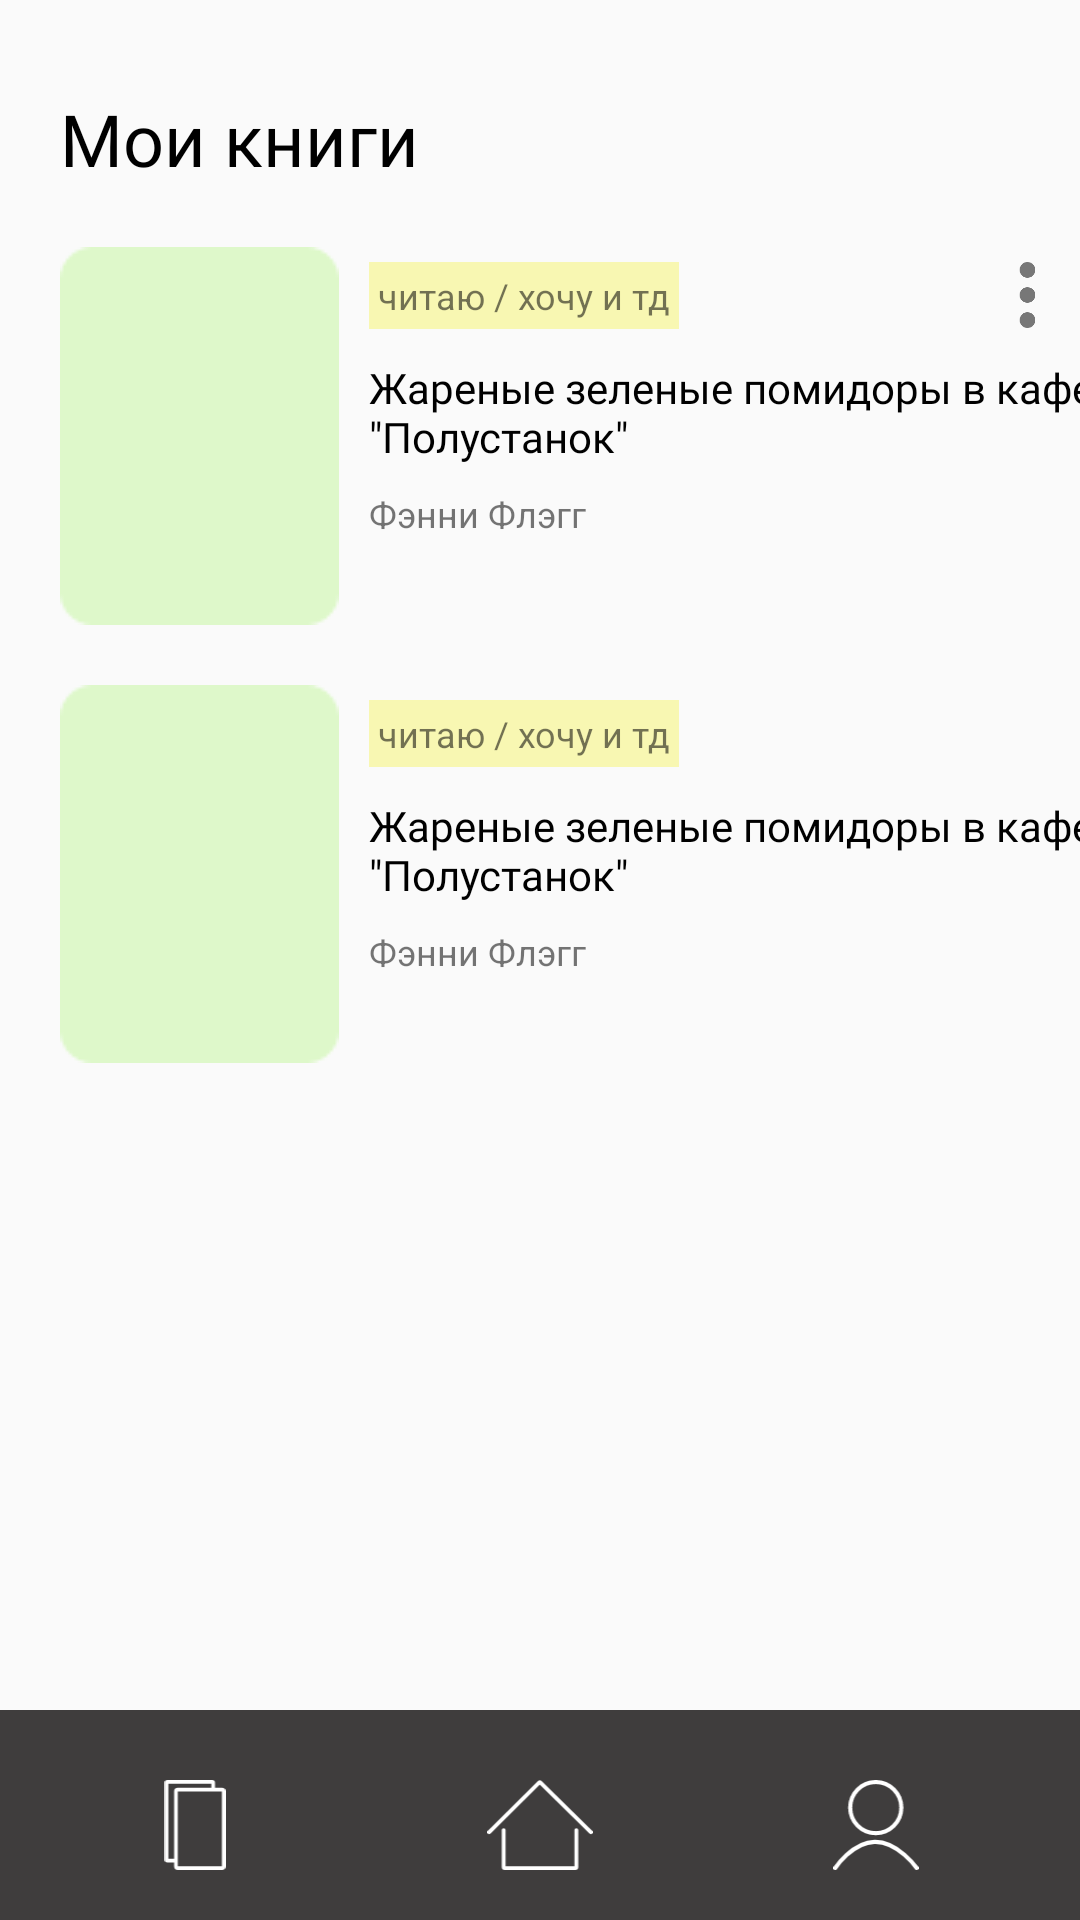

Where icons sit on this 1080px×1920px app screen, as (x1, y1, x2, y2):
home: (487, 1780, 593, 1870)
profile: (833, 1780, 919, 1870)
